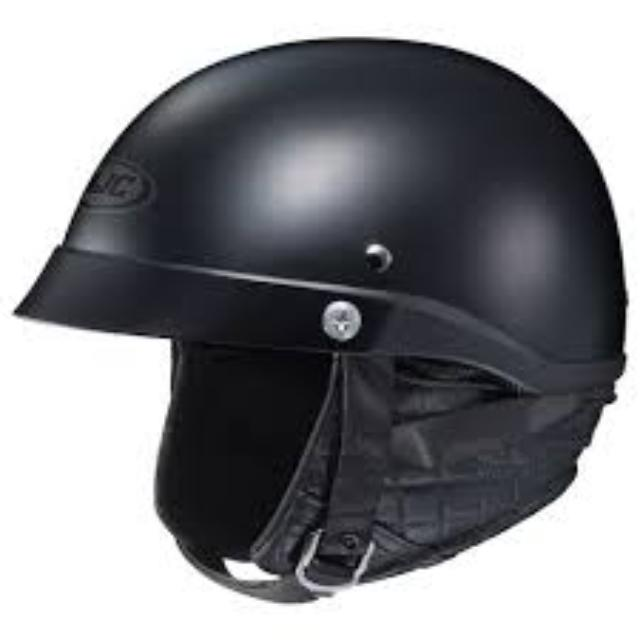motorcycle-helmets: (14, 40, 623, 600)
